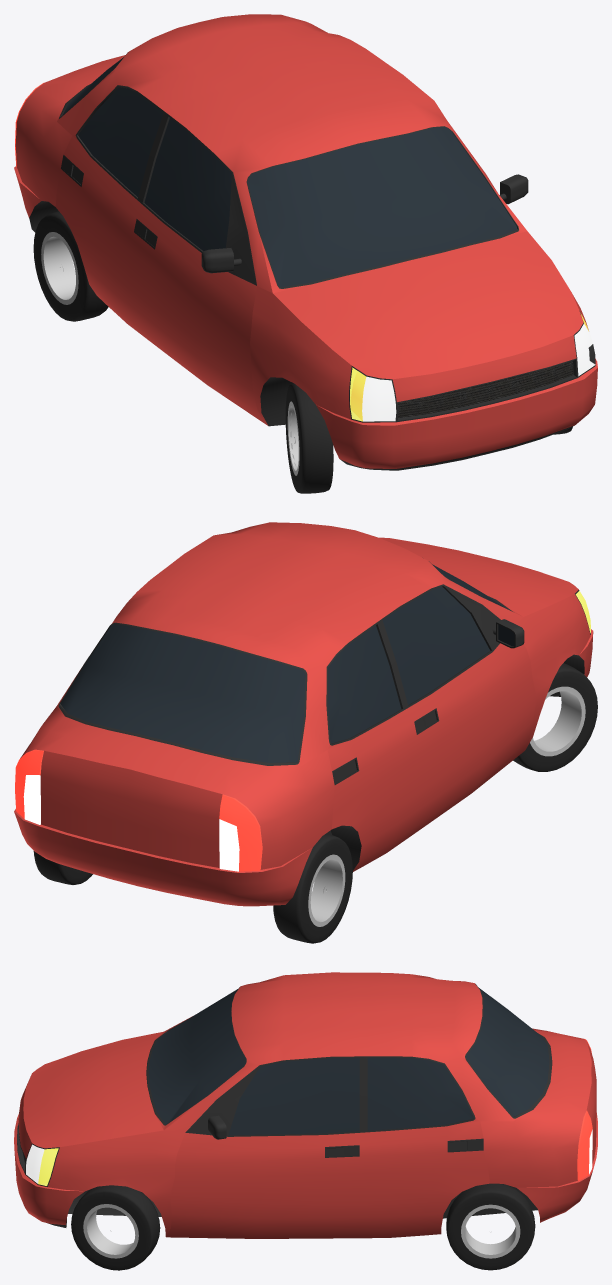
File: car-4.glb
3 renders of one model, top to bottom at view 1: azimuth 30°, elevation 25°; view 2: azimuth 150°, elevation 25°; view 3: azimuth 270°, elevation 25°, orthographic. The views are drawn at different scales.
Visible parts, largest first — view 1: CarBody.004, WheelRR.002, WheelFR.002; view 2: CarBody.004, WheelRR.002, WheelFR.002, WheelRL.002; view 3: CarBody.004, WheelFL.002, WheelRL.002.
Boxes of the visible parts, x1,y1,x2,y2 form: CarBody.004: (14,14,597,470); WheelRR.002: (33,211,108,321); WheelFR.002: (285,383,333,493); CarBody.004: (14,522,593,906); WheelRR.002: (273,833,352,943); WheelFR.002: (513,663,597,771); WheelRL.002: (33,851,92,884); CarBody.004: (14,972,597,1238); WheelFL.002: (71,1185,160,1270); WheelRL.002: (446,1183,535,1270).
Bounding box in the file's own units: 2.05 × 1.65 × 4.02.
10 materials, 1 textured.
